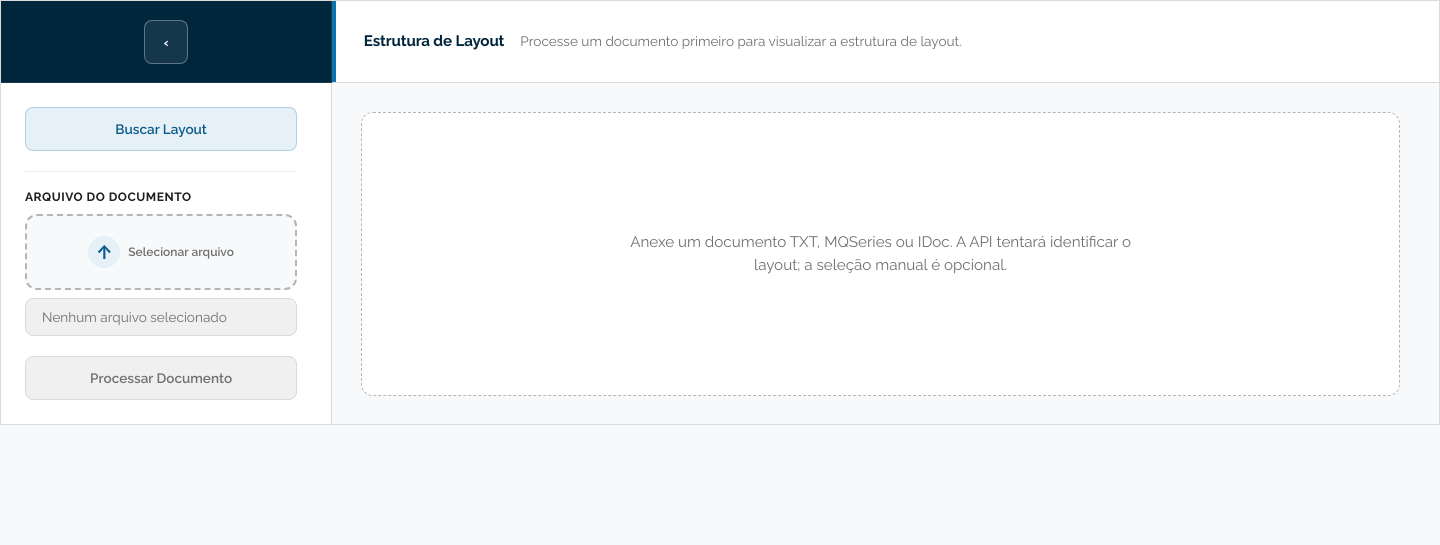
Test: LayoutParserPage › pré-seleciona o layout de uma reabertura (#197) sem disparar parse automático
The image size is (1440, 545).
What coordinates should you click on to do the following:
click the button "Buscar Layout"
I would click on:
 (161, 129)
Its box is x1=25 y1=107 x2=297 y2=151.
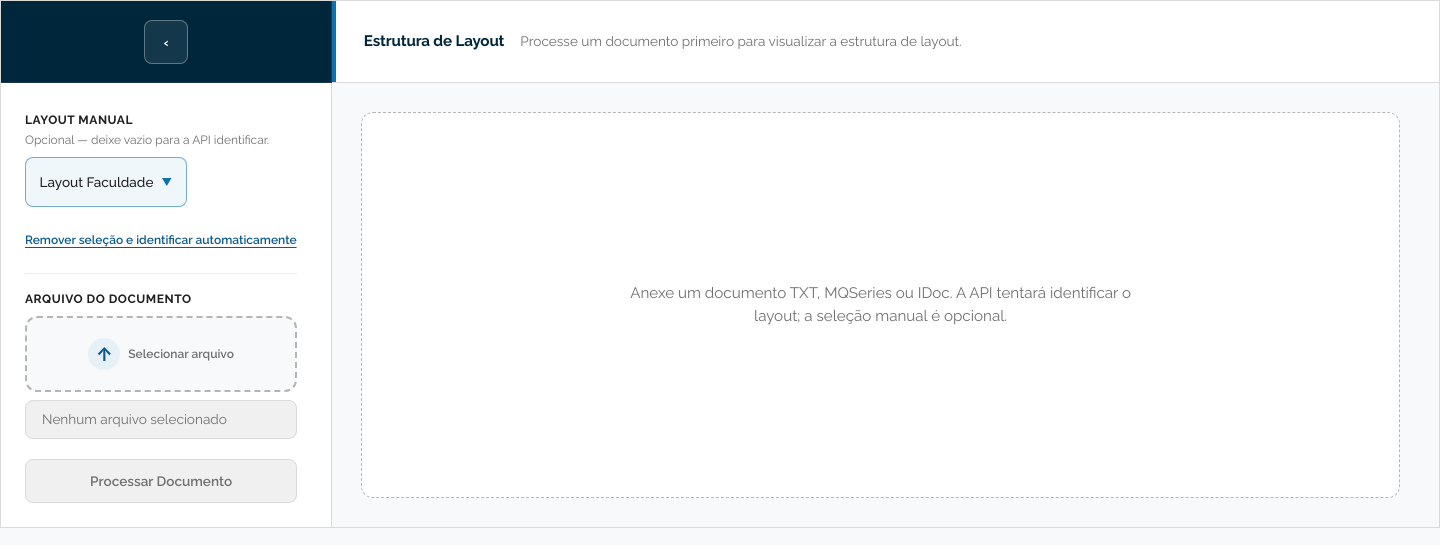
Result: the dropdown named "Layout selecionado: Layout Faculdade" is shown at x1=25 y1=157 x2=187 y2=207
